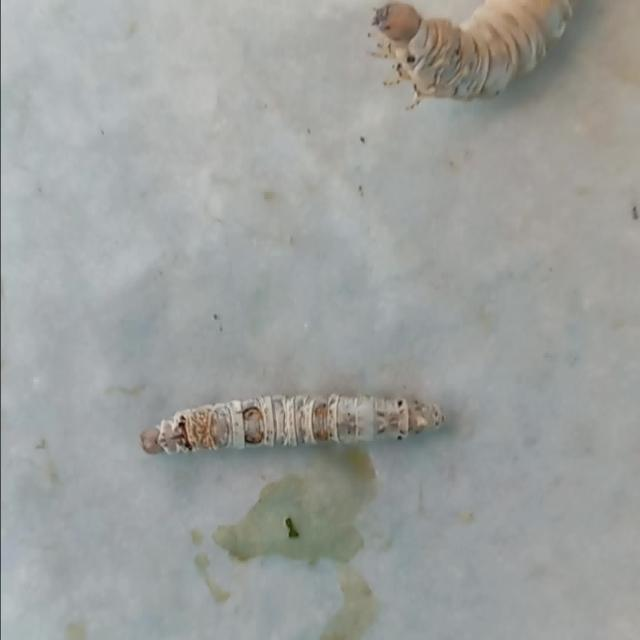Grasserie: (123, 352, 471, 492)
